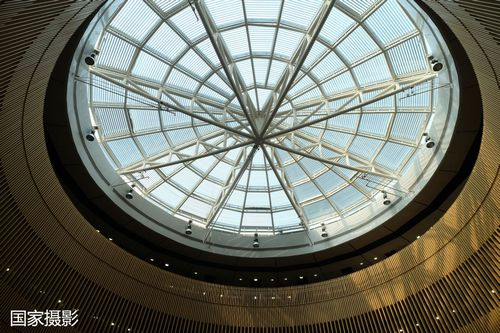buildings: (47, 31, 470, 272)
